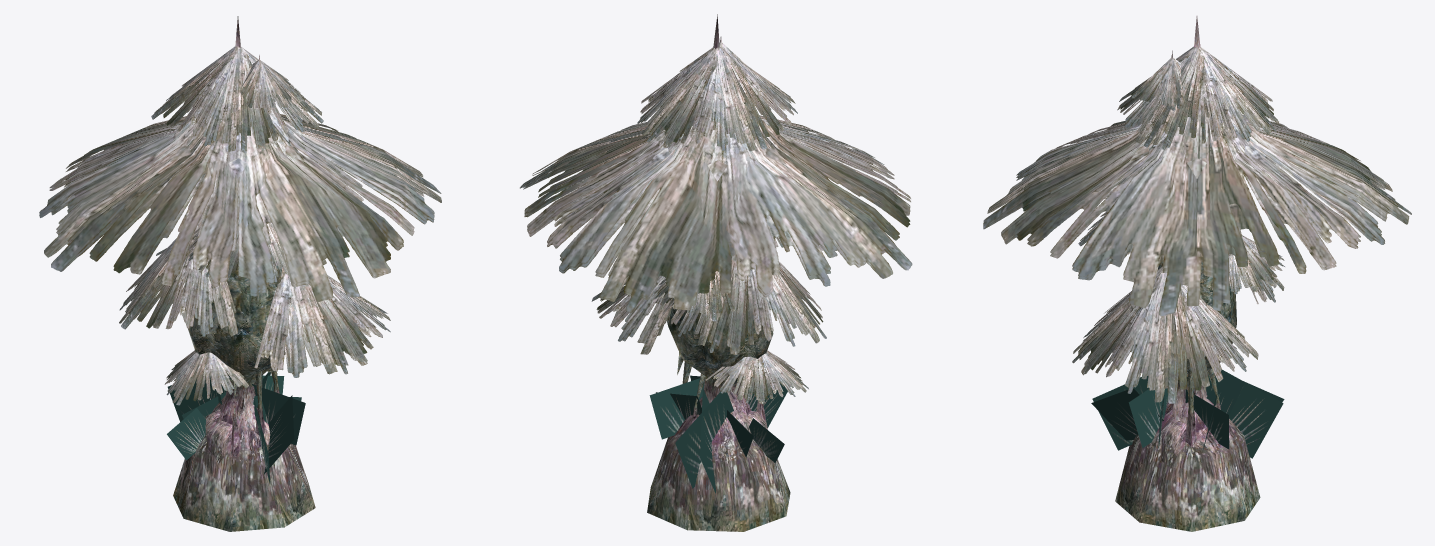
Rendered from rock_crystl_tree_sm_l2.fbx.
3 views of the same model, side by side, from view 1: azimuth 30°, elevation 25°; view 2: azimuth 150°, elevation 25°; view 3: azimuth 270°, elevation 25° (orthographic).
Visible parts, largest first — view 1: mesh_node; view 2: mesh_node; view 3: mesh_node.
Boxes of the visible parts, left/top/right/bottom form: mesh_node: left=39, top=16, right=441, bottom=531; mesh_node: left=520, top=14, right=912, bottom=531; mesh_node: left=983, top=16, right=1411, bottom=531.
Bounding box in the file's own units: 16.05 × 19.16 × 16.05.
